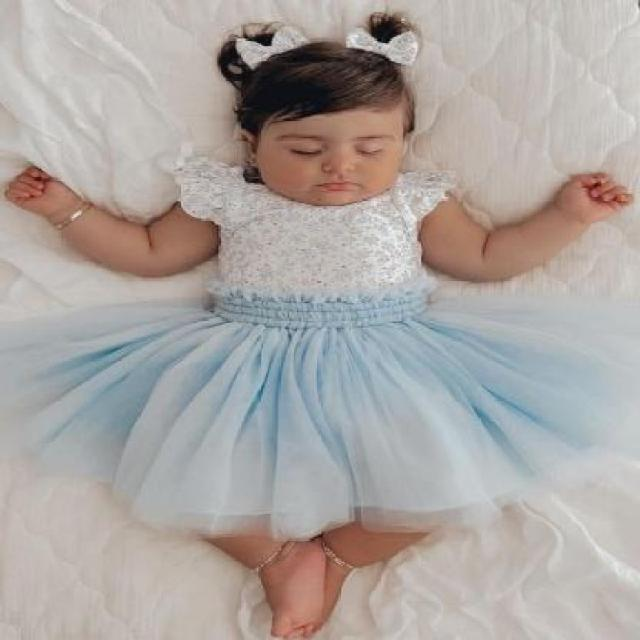baby: (3, 39, 634, 638)
